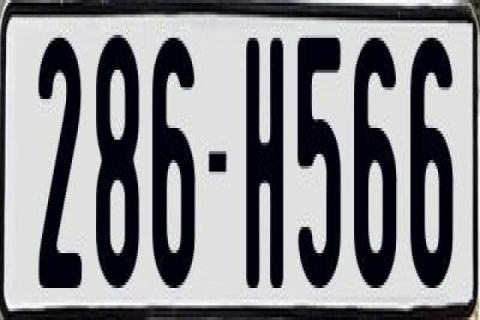0: (38, 35, 88, 299), (94, 29, 142, 297), (298, 38, 346, 302), (406, 35, 450, 297), (150, 38, 194, 297), (354, 29, 396, 288)
H: (244, 35, 288, 294)
